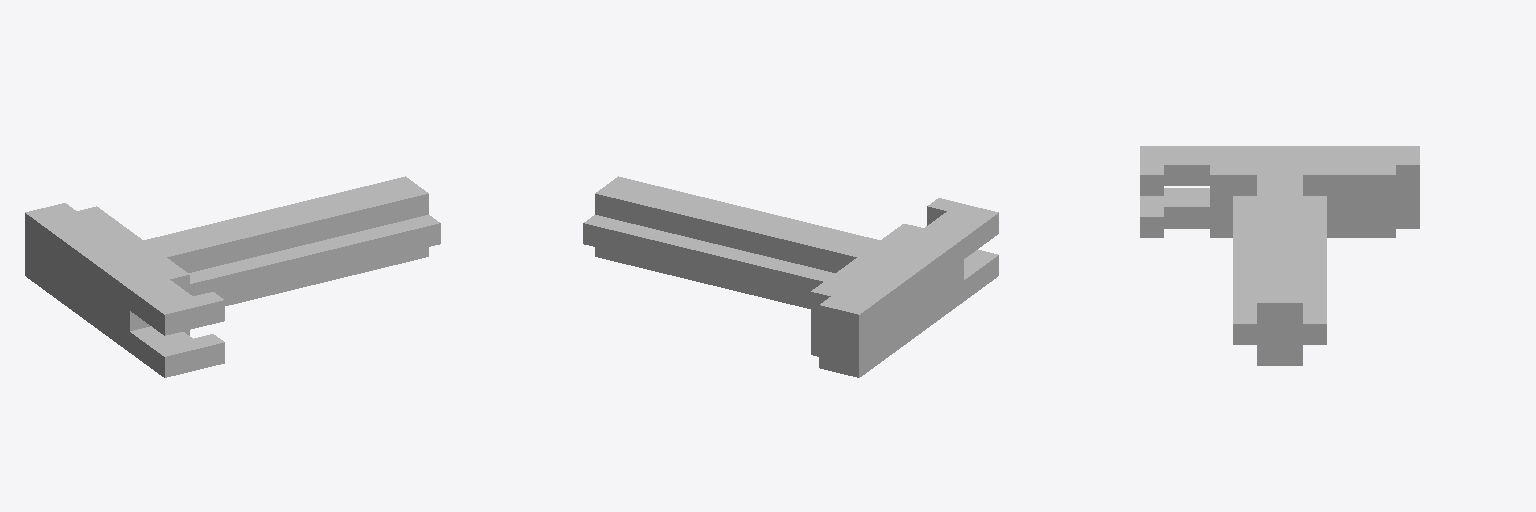
File: room.obj
3 renders of one model, left to right at view 1: azimuth 30°, elevation 25°; view 2: azimuth 150°, elevation 25°; view 3: azimuth 270°, elevation 25°, orthographic.
Parts seen in each view (by area): view 1: object 1; view 2: object 1; view 3: object 1.
Part boxes in pixels (left/top/right/bottom): object 1: left=25, top=176, right=440, bottom=377; object 1: left=583, top=176, right=998, bottom=377; object 1: left=1140, top=146, right=1419, bottom=365.
Size of the model in its own units: 1.6 by 0.3 by 1.2.